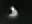person: (10, 7, 19, 19)
